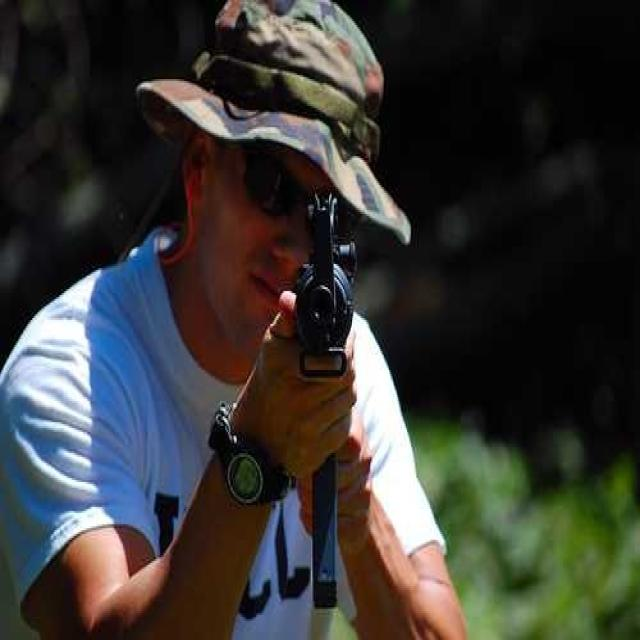Rifle: (287, 178, 355, 614)
